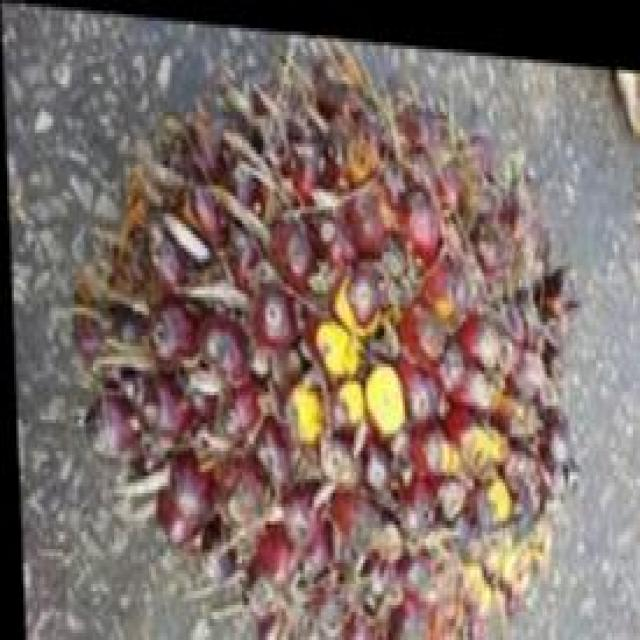Ripefruit: (66, 35, 578, 640)
